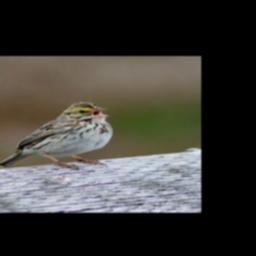Sparrow: (0, 99, 115, 172)
